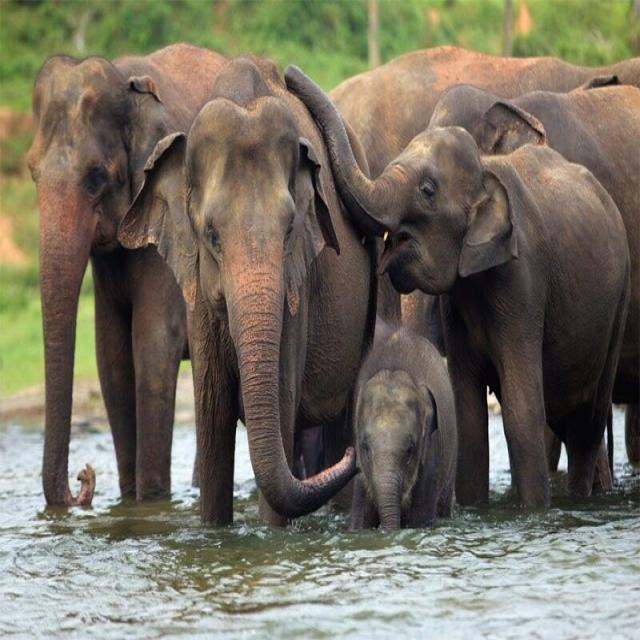Elephant: (321, 101, 631, 544), (11, 24, 187, 574), (200, 33, 363, 577), (332, 301, 502, 557)
